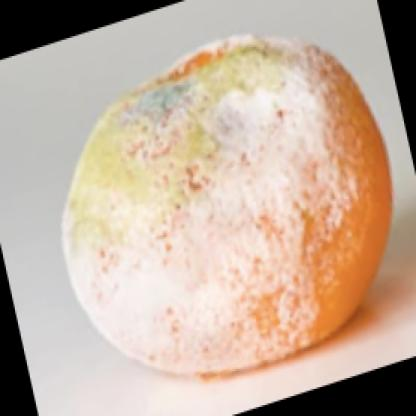rotten: (65, 38, 386, 375)
